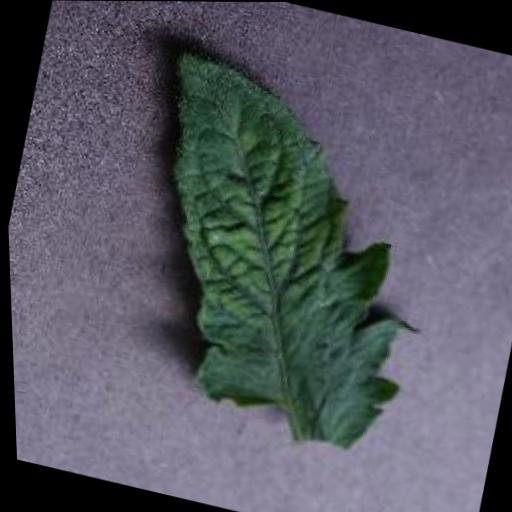Mosaic Virus: (90, 43, 475, 469)
